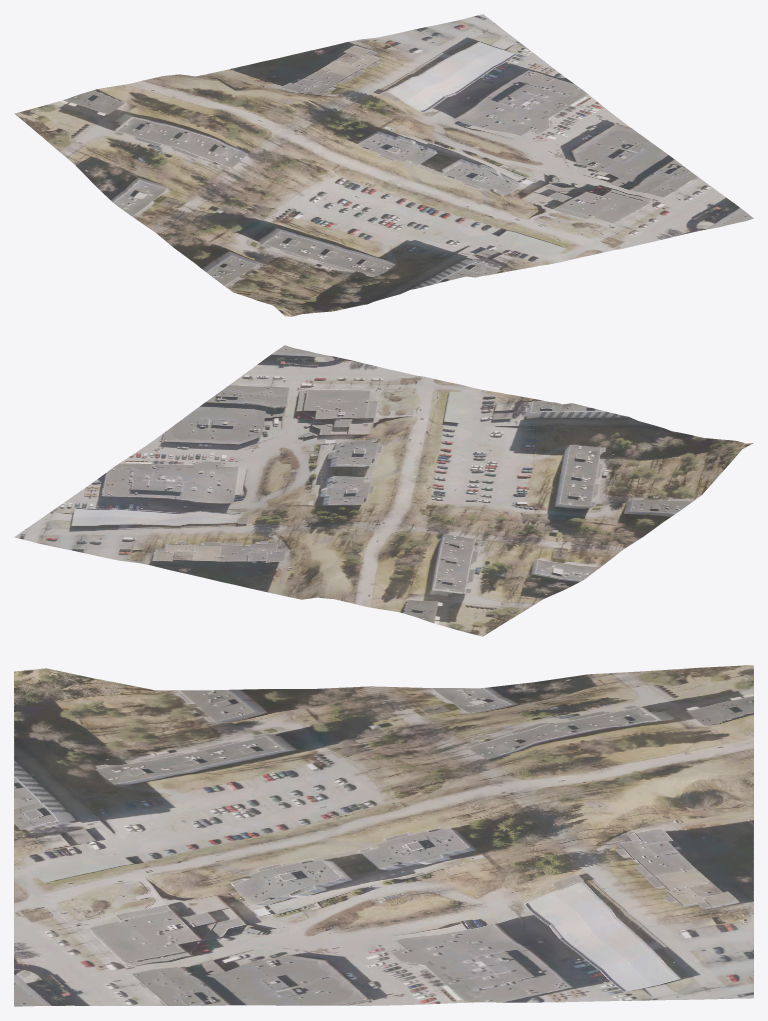
Rendered from CM_Terrain_24491687_6815698.fbx.
3 views of the same model, one above another, from view 1: azimuth 30°, elevation 25°; view 2: azimuth 150°, elevation 25°; view 3: azimuth 270°, elevation 25° (orthographic). The views are drawn at different scales.
Visible parts, largest first — view 1: CM_Terrain_24491687_6815698_LOD0; view 2: CM_Terrain_24491687_6815698_LOD0; view 3: CM_Terrain_24491687_6815698_LOD0.
Boxes of the visible parts, bbox=[...] form: CM_Terrain_24491687_6815698_LOD0: bbox=[14, 14, 753, 316]; CM_Terrain_24491687_6815698_LOD0: bbox=[14, 345, 753, 636]; CM_Terrain_24491687_6815698_LOD0: bbox=[14, 665, 753, 1006].
Size of what is drawn, in the model's own units: 205 by 12.06 by 205.
